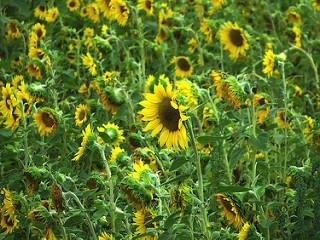sunflower: (138, 81, 192, 147), (217, 19, 249, 60), (214, 190, 242, 228), (133, 205, 159, 240), (0, 187, 18, 235), (70, 123, 91, 162), (253, 90, 272, 125), (32, 108, 56, 133), (99, 121, 123, 146), (0, 82, 17, 117), (110, 0, 131, 25), (261, 42, 275, 77), (173, 55, 195, 76), (26, 59, 41, 80), (74, 104, 87, 125)
